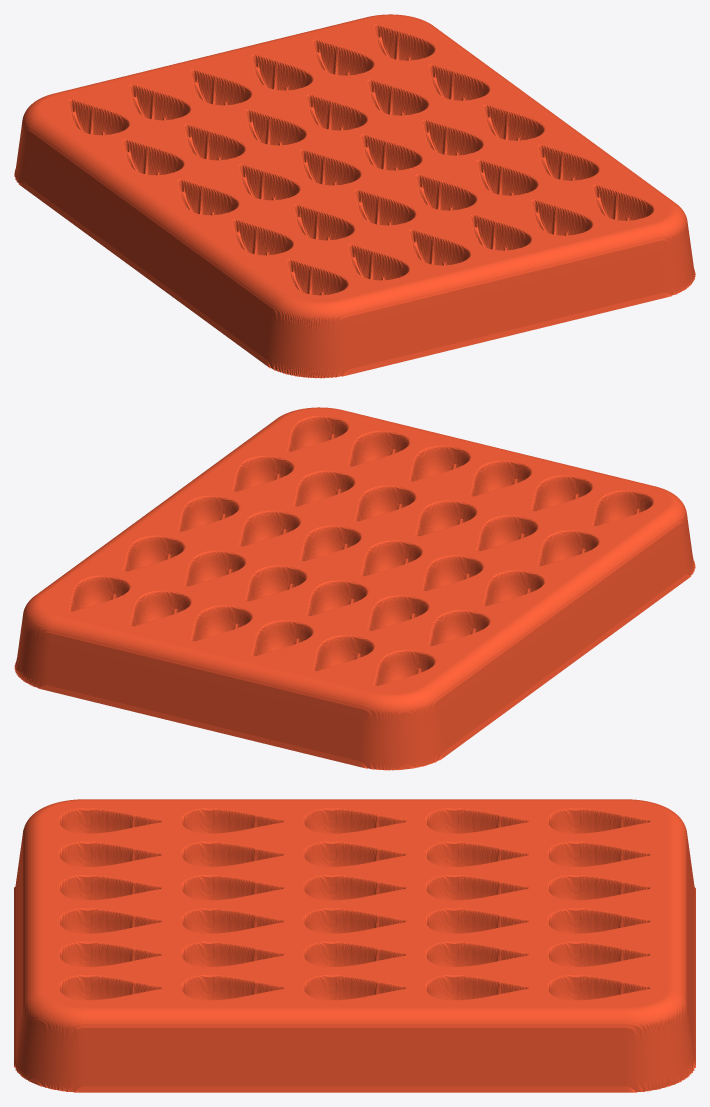
File: mold.glb
The picture shows the model from 3 angles, top to bottom: view 1: azimuth 30°, elevation 25°; view 2: azimuth 150°, elevation 25°; view 3: azimuth 270°, elevation 25°; orthographic projection. The views are drawn at different scales.
Parts seen in each view (by area): view 1: geometry_0; view 2: geometry_0; view 3: geometry_0.
Boxes of the visible parts, x1,y1,x2,y2 form: geometry_0: [14, 14, 695, 378]; geometry_0: [14, 407, 695, 770]; geometry_0: [14, 799, 695, 1092].
Size of the model in its own units: 0.0704 by 0.0105 by 0.0882.
